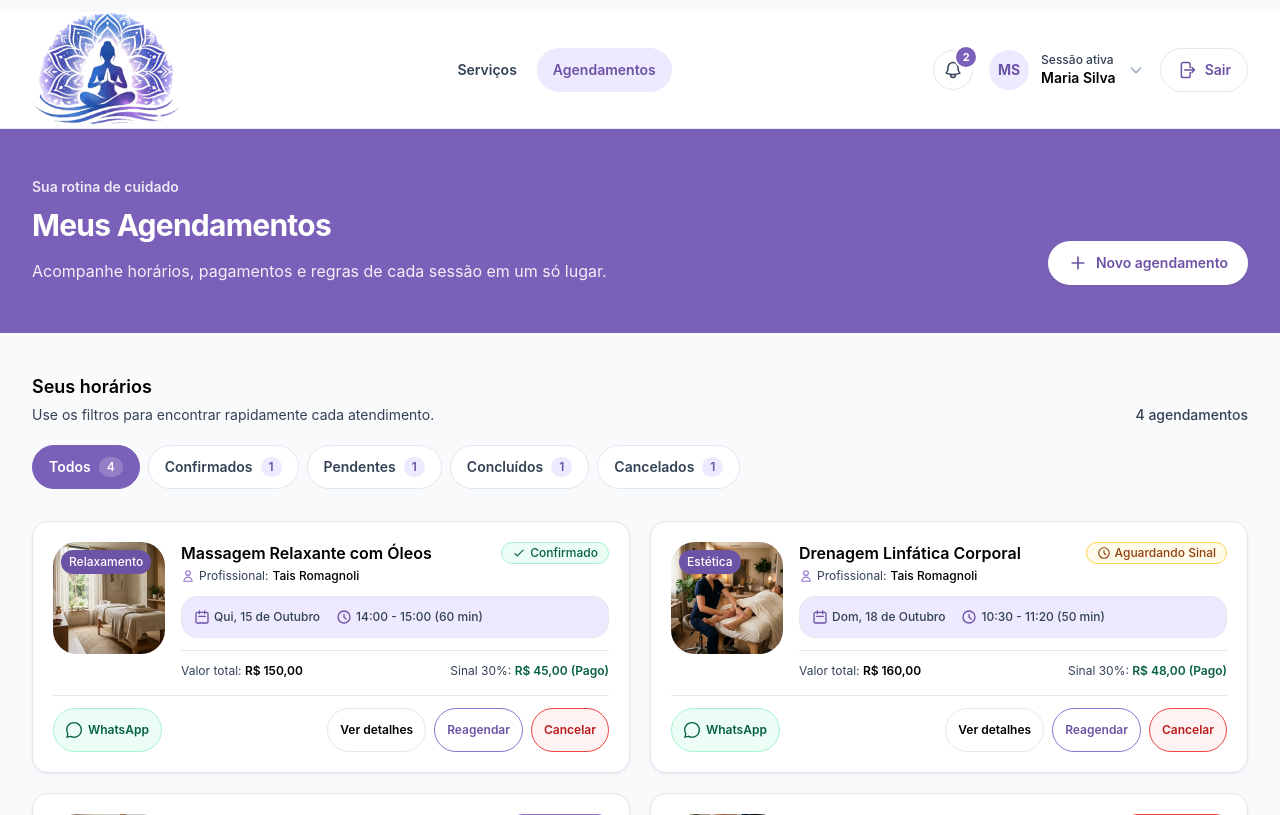
AgendamentosPage › filtra agendamentos ao selecionar a aba de status
This screenshot has width=1280, height=815.
Clica na aba 'Confirmados'
Click the button with test id "tab-confirmado" at x=223, y=467, box [148, 445, 299, 489]
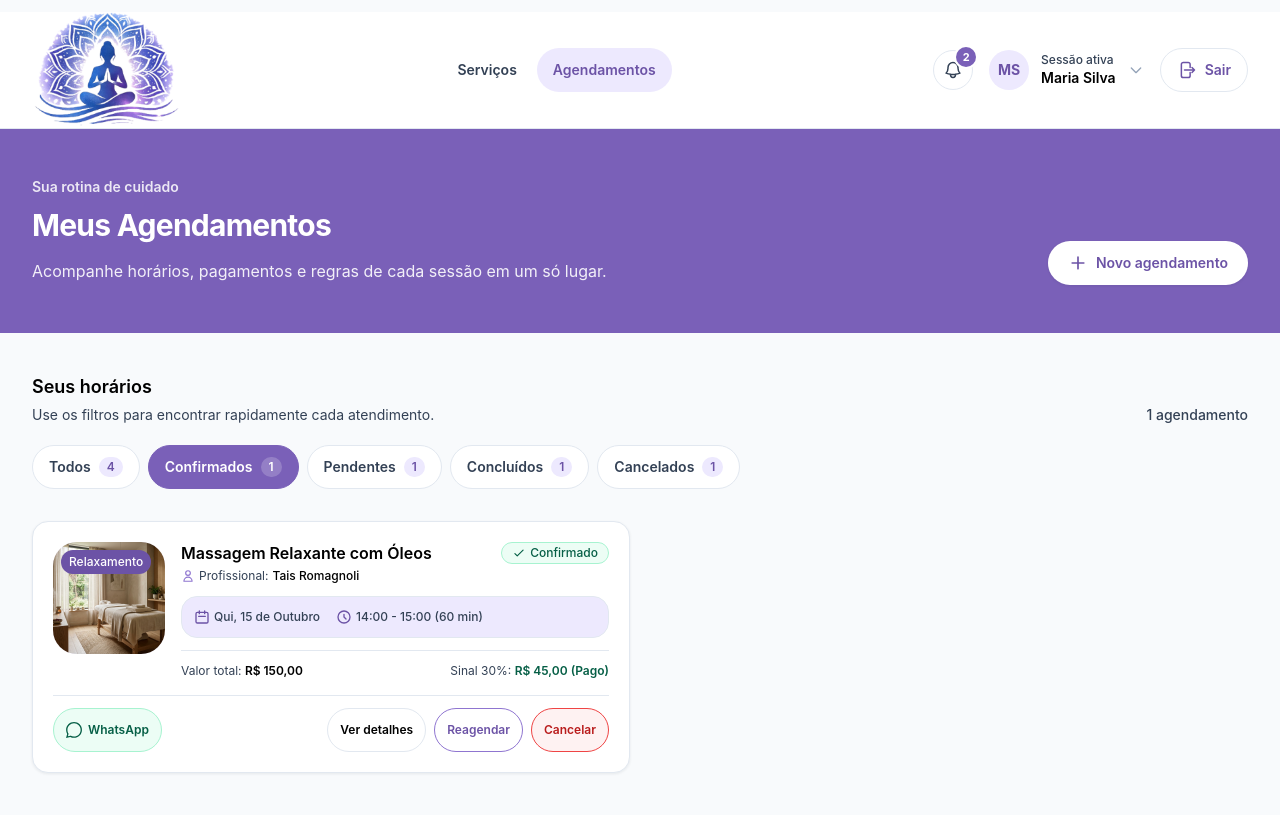
Expected: the heading "Massagem Relaxante com Óleos" is shown, [181, 542, 432, 564]
Now the heading "Drenagem Linfática Corporal" is gone
Clica na aba 'Pendentes'
Click the button with test id "tab-pendente" at x=374, y=467, box [307, 445, 442, 489]
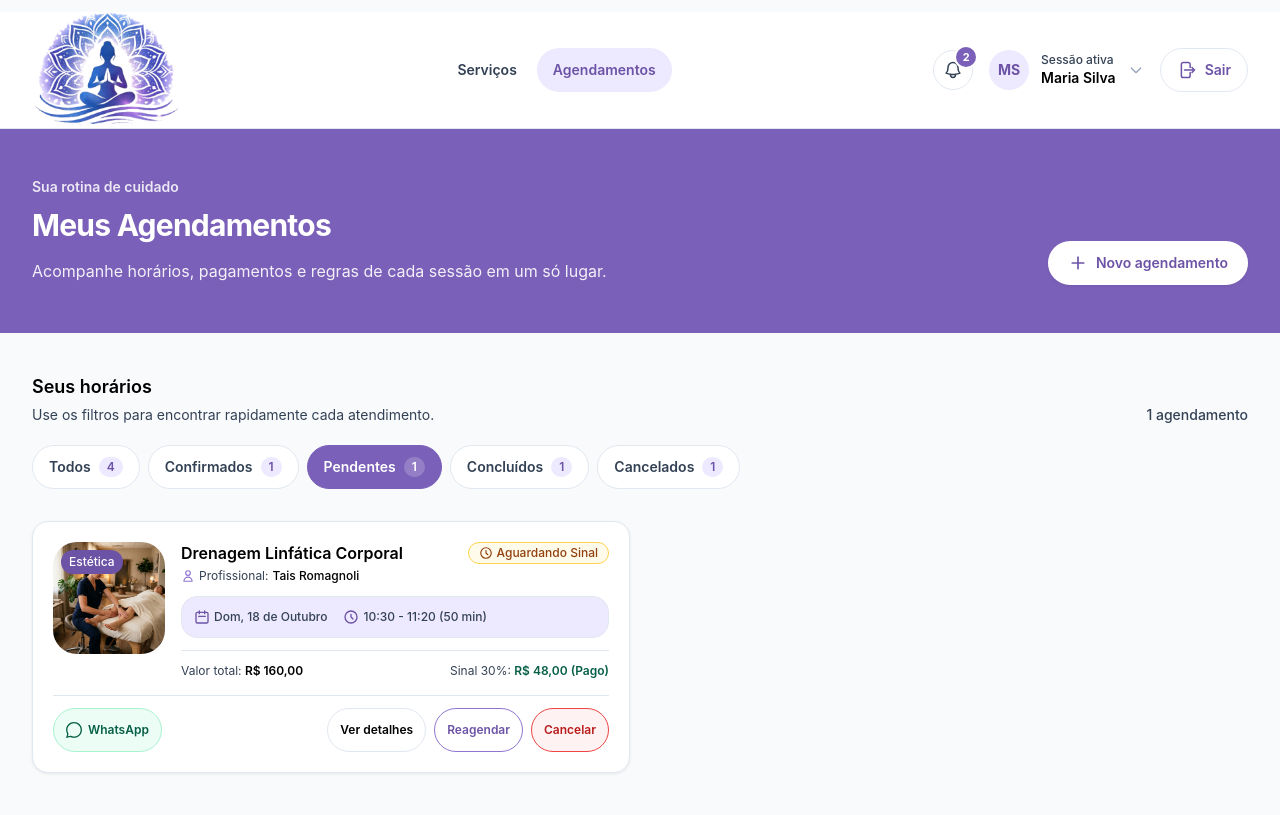
Now the heading "Drenagem Linfática Corporal" is shown, box [181, 542, 403, 564]
Now the heading "Massagem Relaxante com Óleos" is gone
